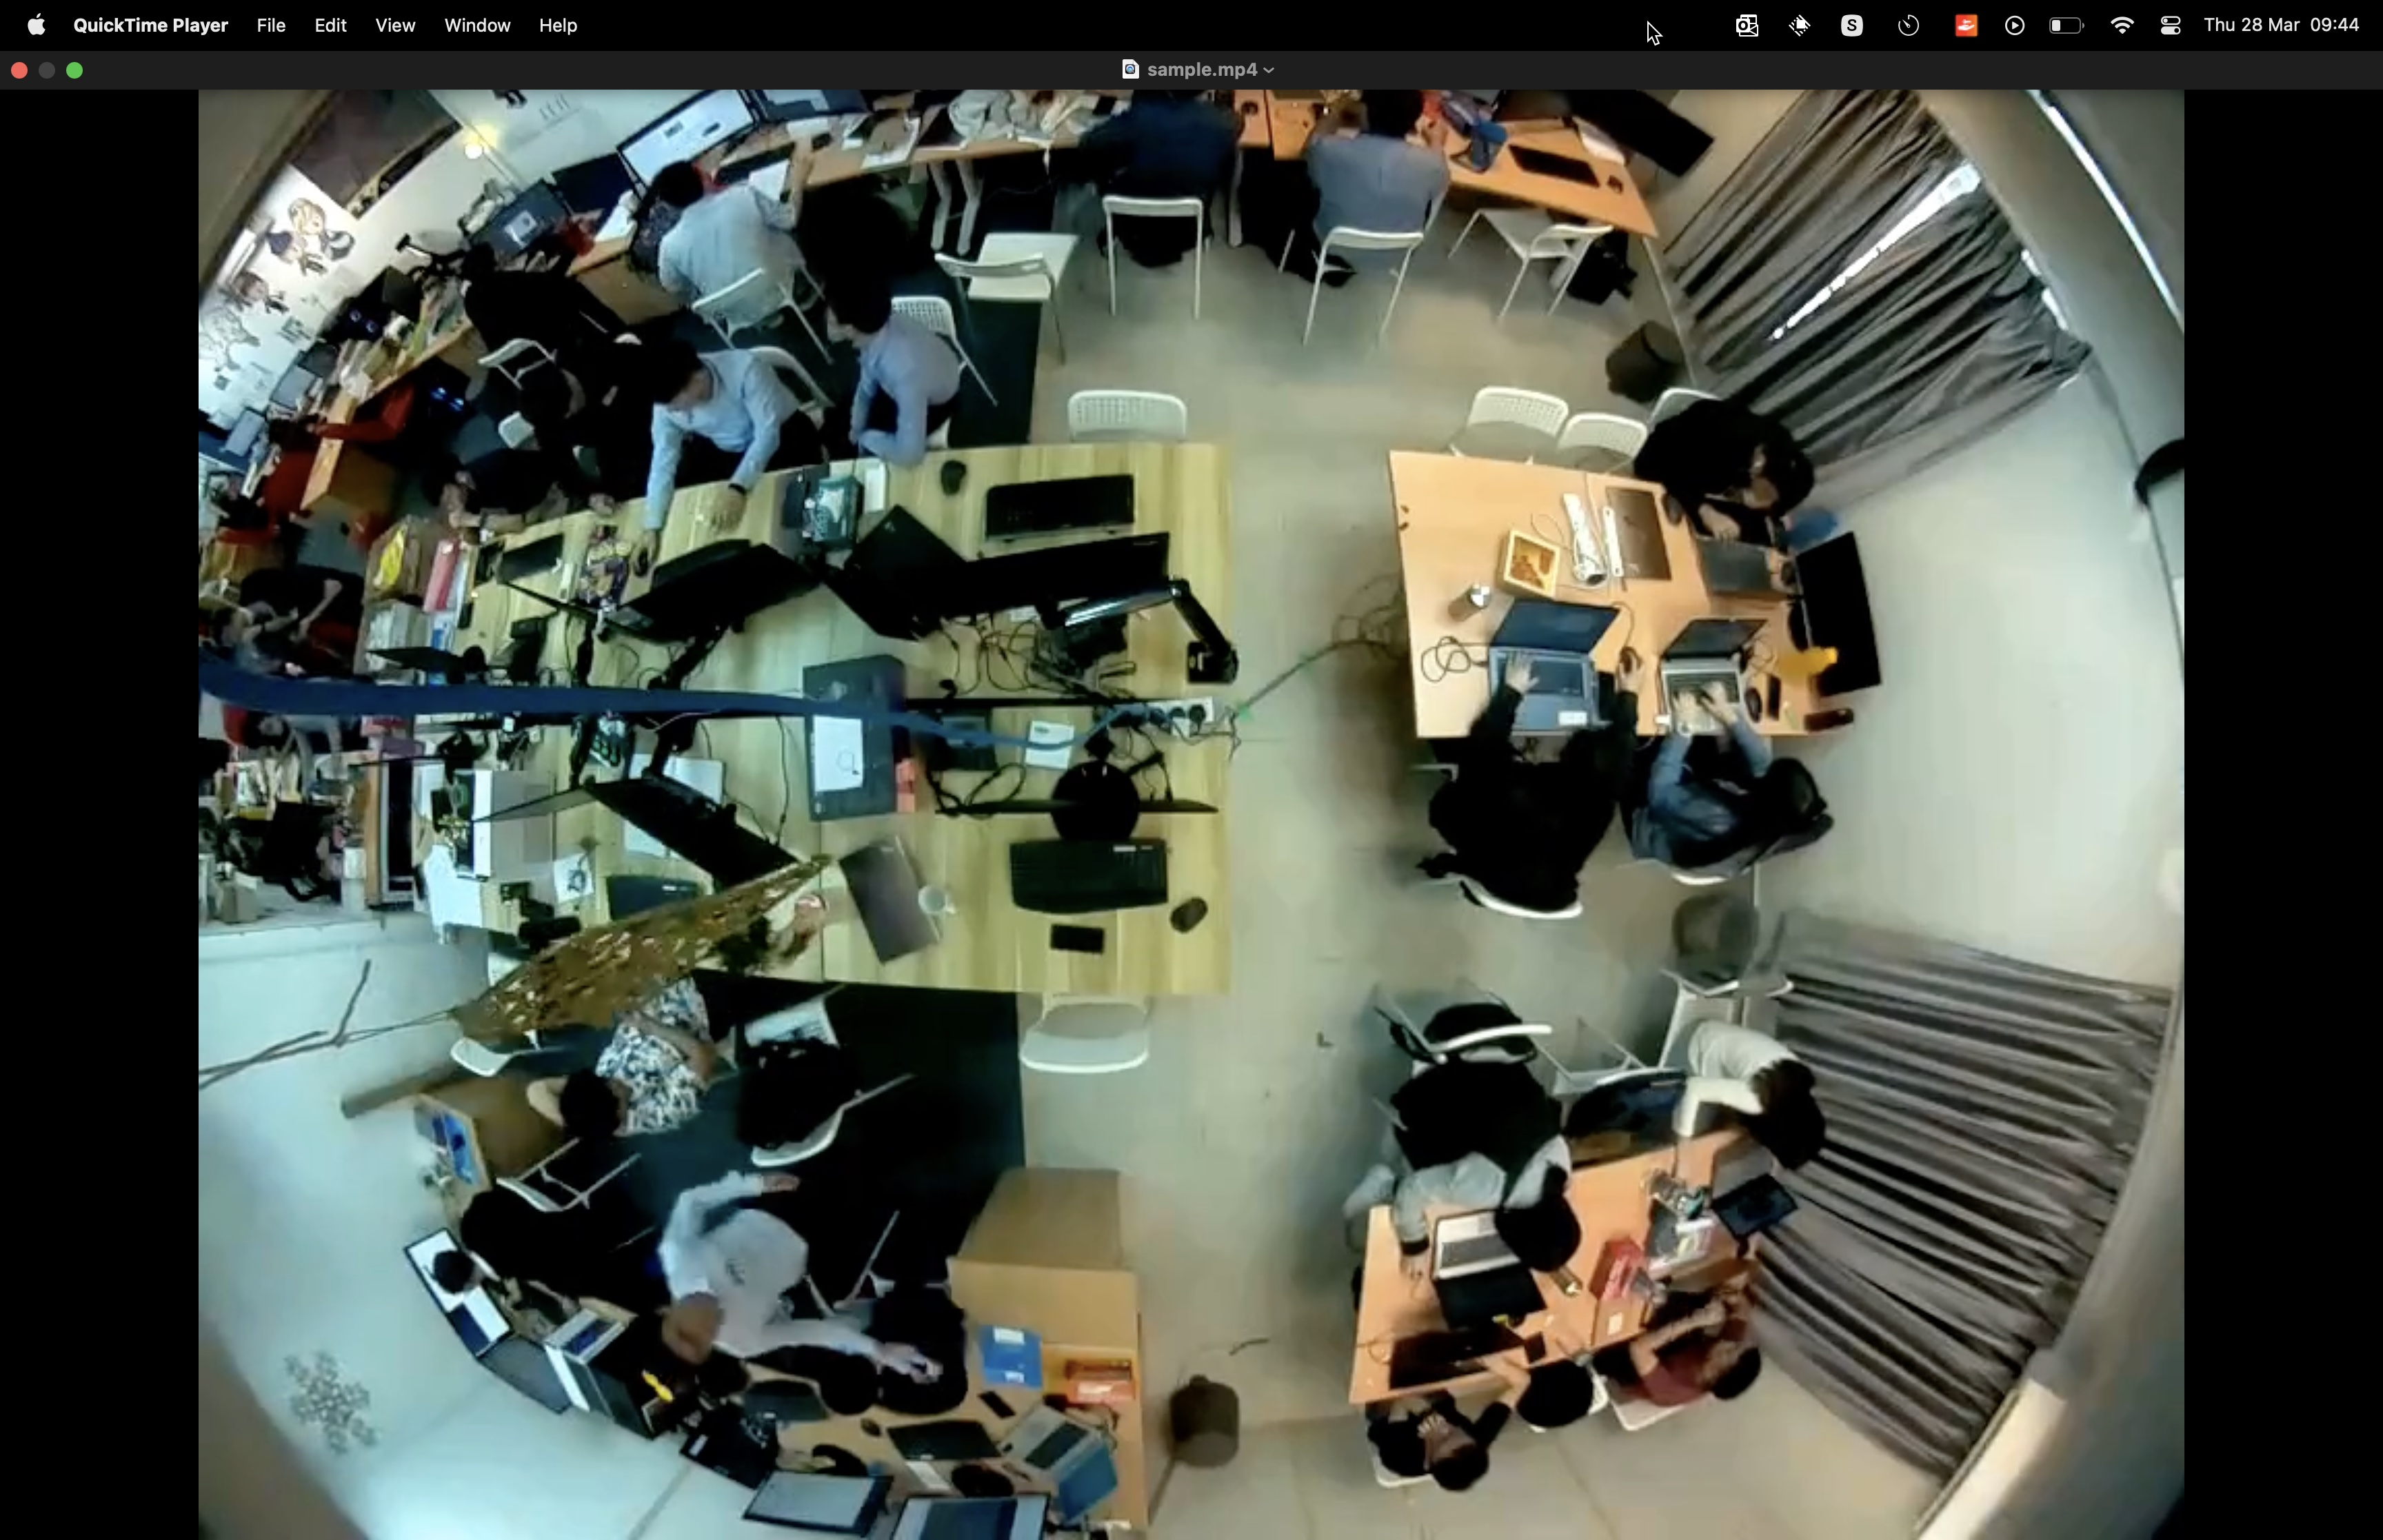Staff: (643, 1172, 933, 1380)
